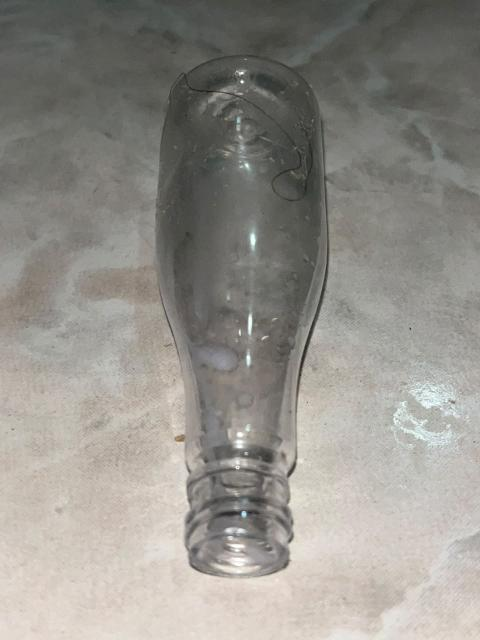PET: (115, 43, 370, 586)
